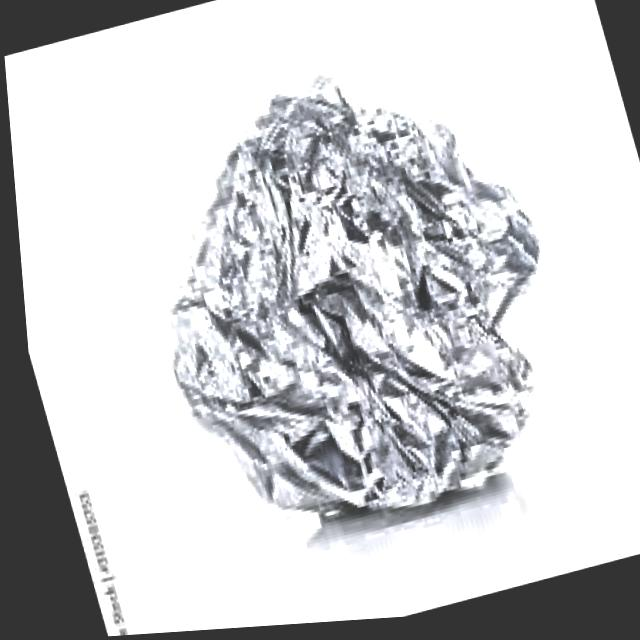Foil: (90, 37, 605, 583)
